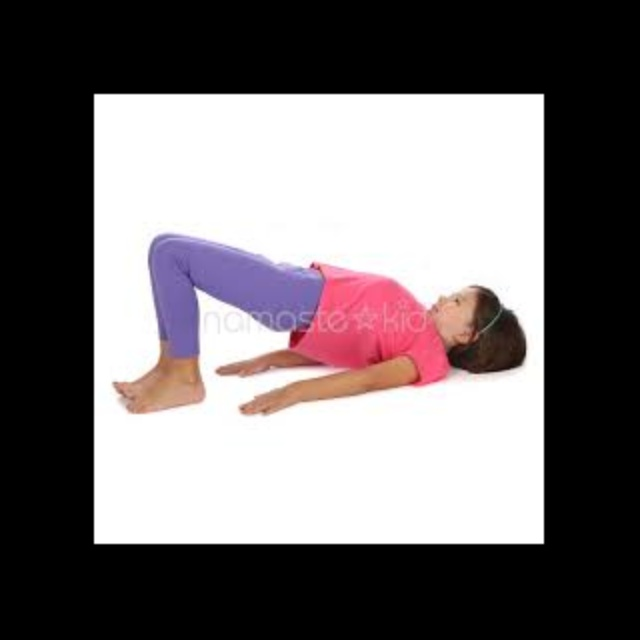Bridge_Pose: (108, 216, 535, 425)
